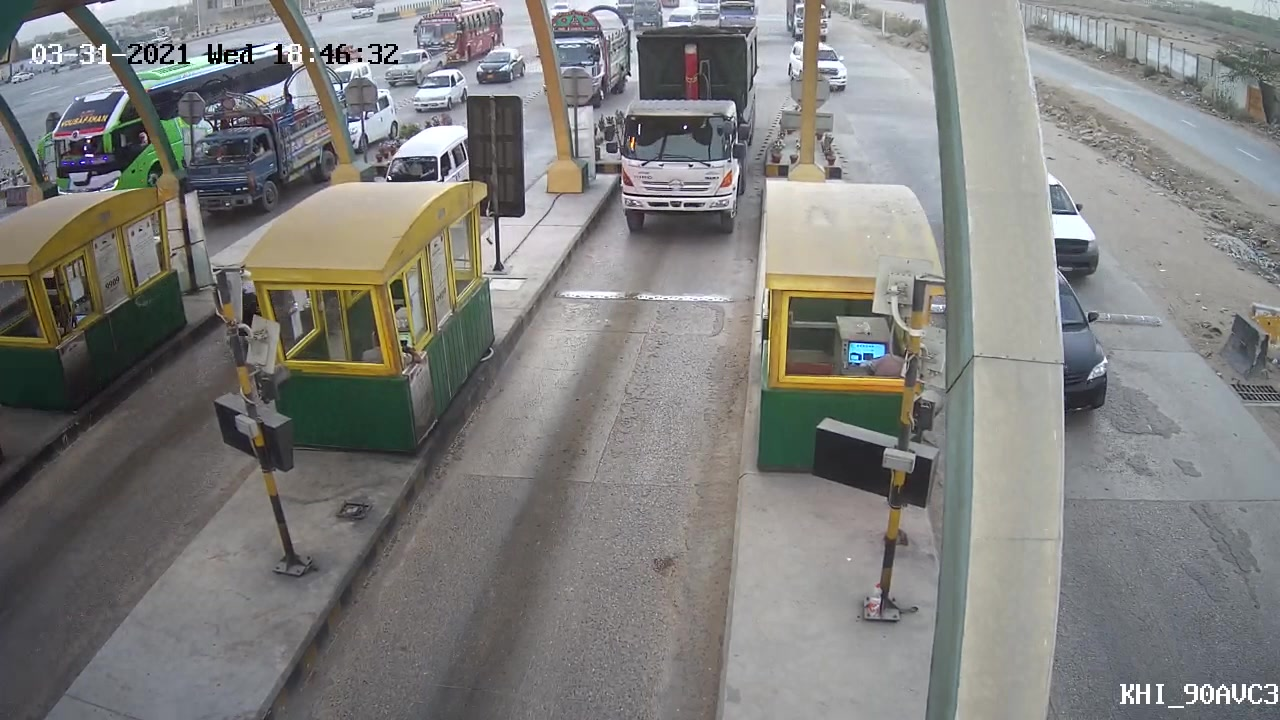F5: (594, 25, 762, 238)
